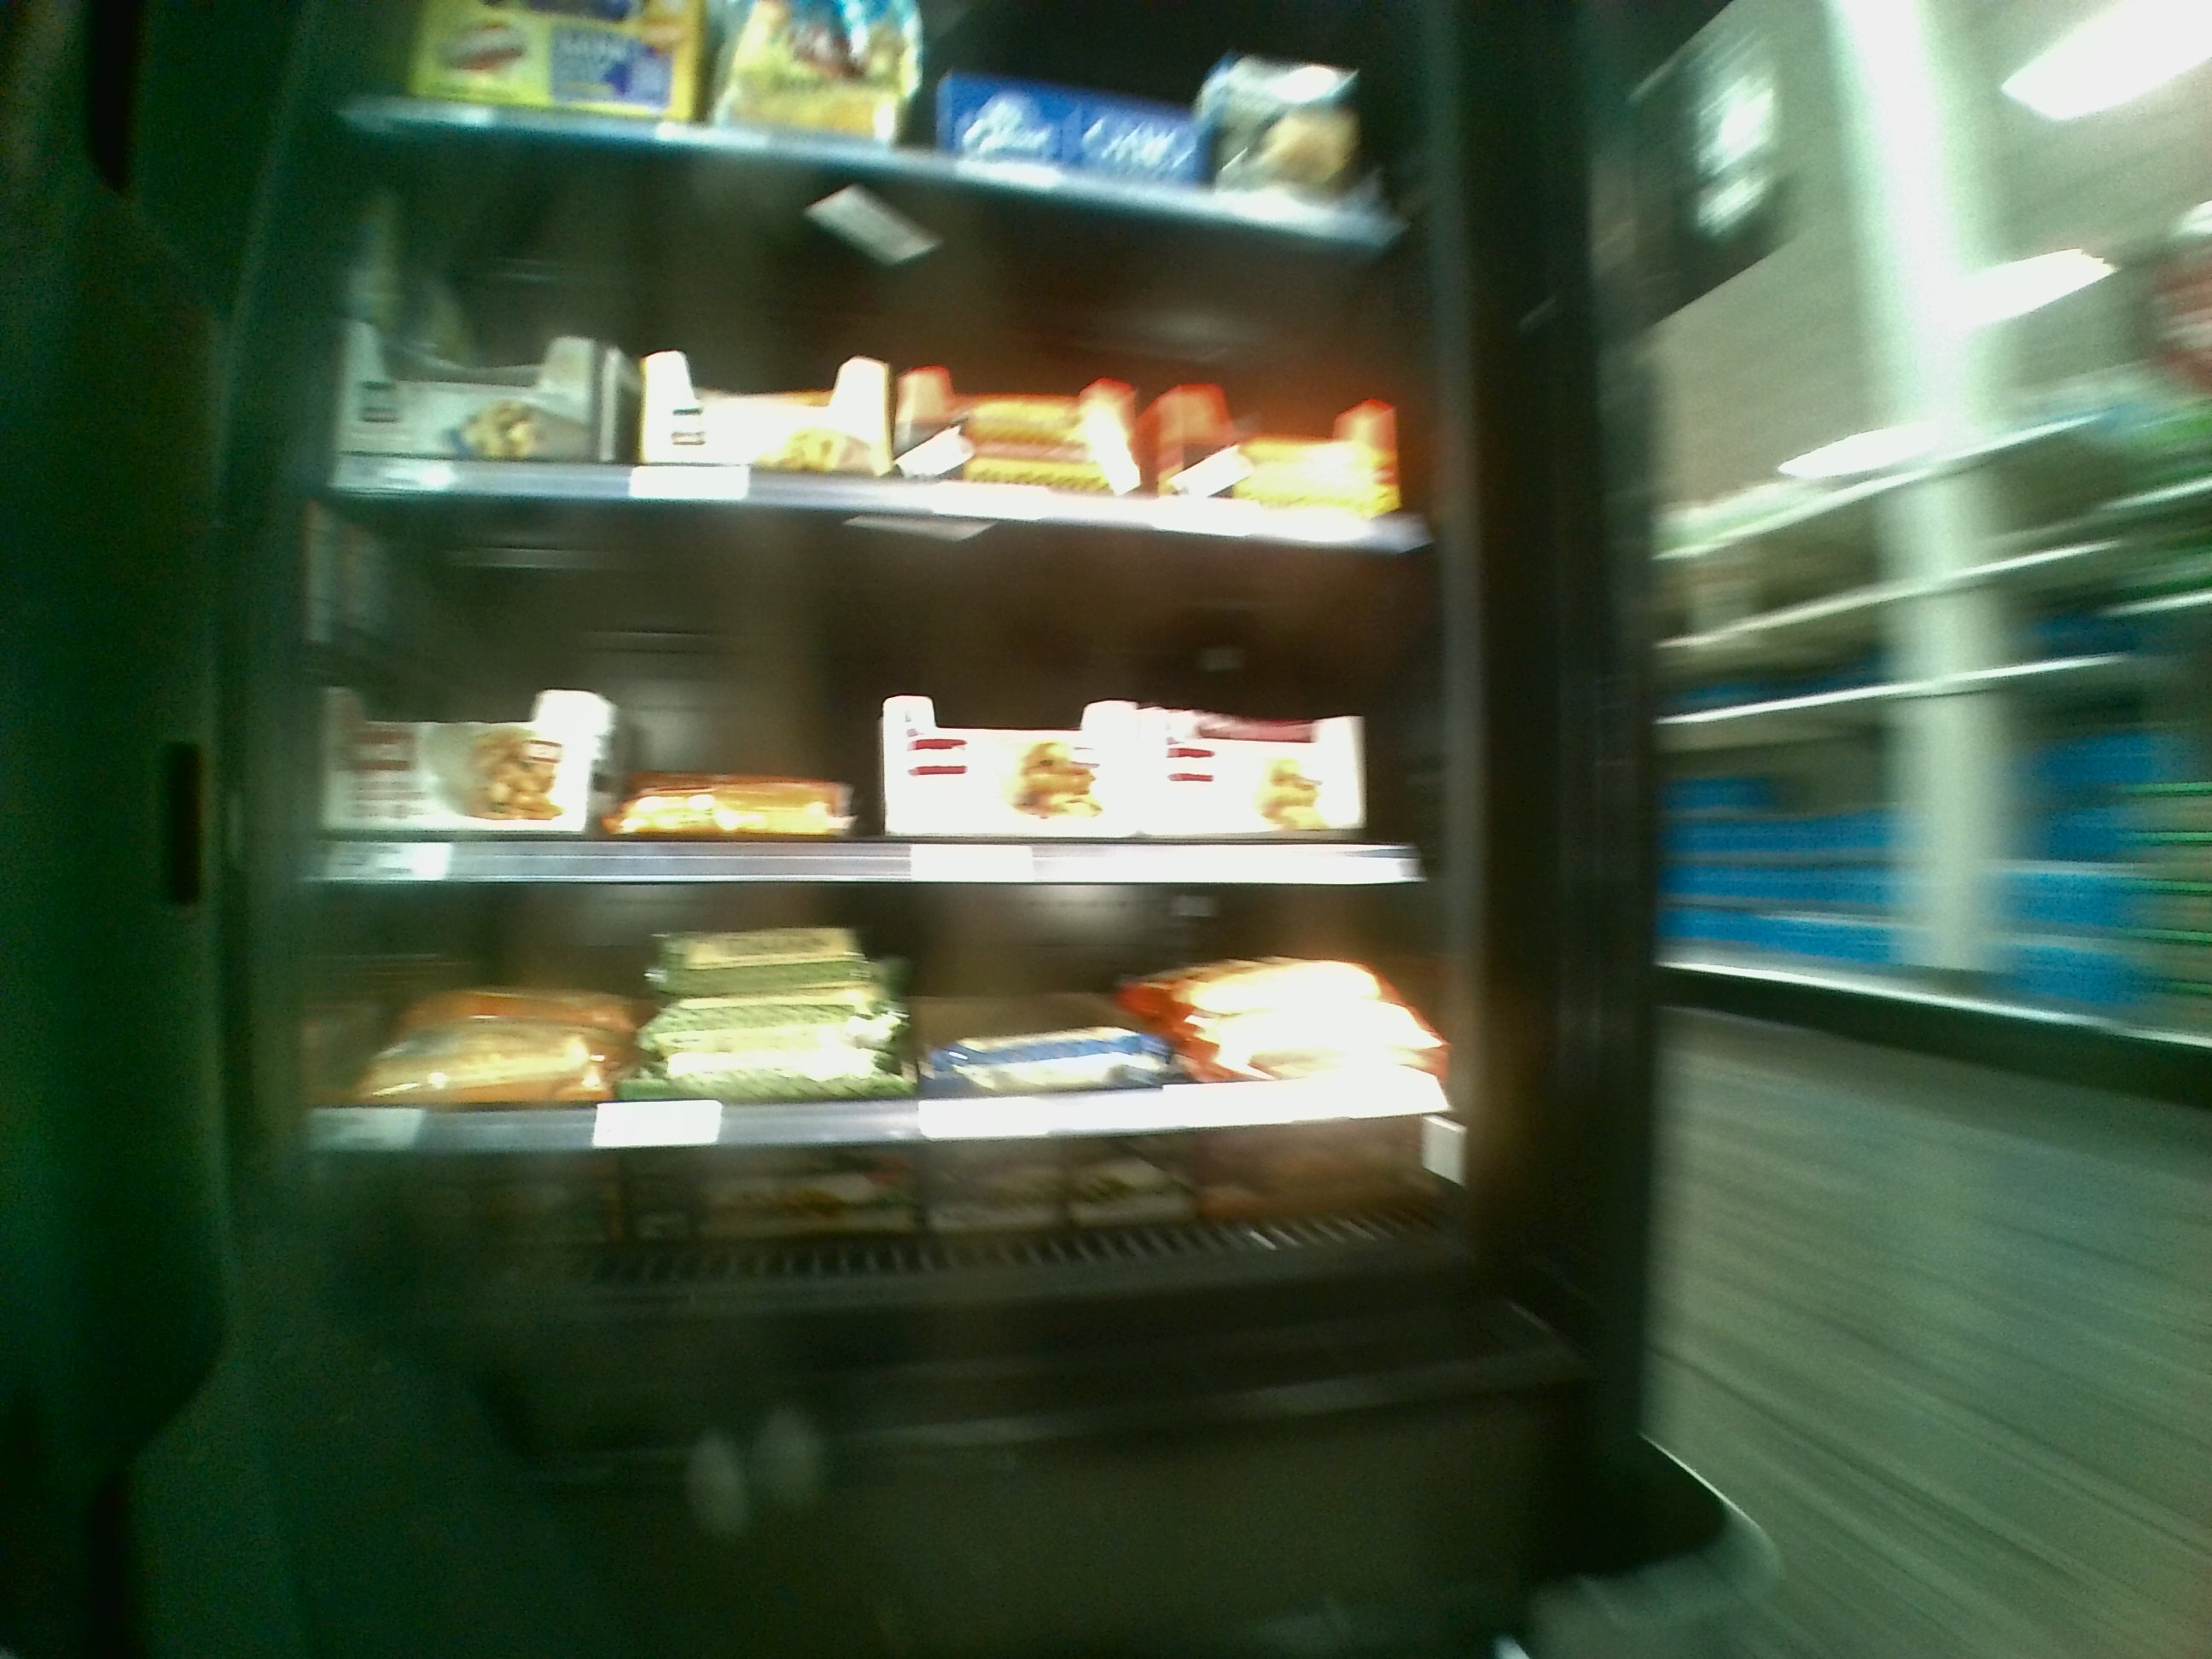shelf: (300, 875, 1460, 1258), (293, 519, 1456, 885), (310, 179, 1444, 530)
